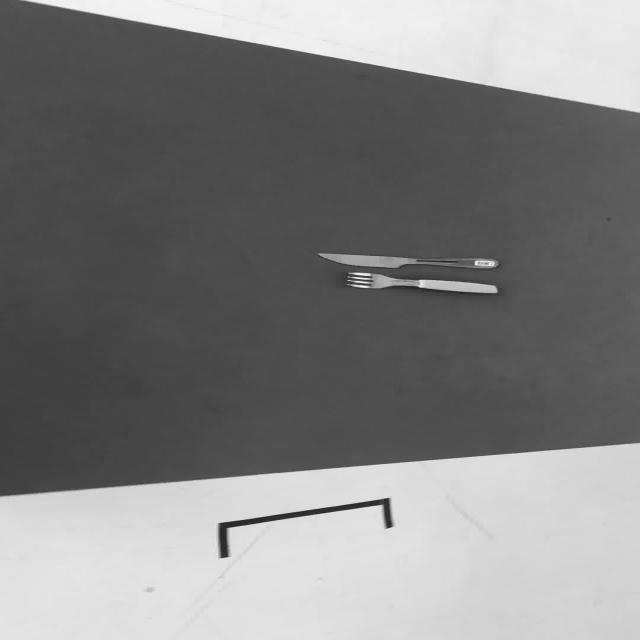fork: (343, 271, 497, 294)
knife fork: (315, 252, 498, 269)
